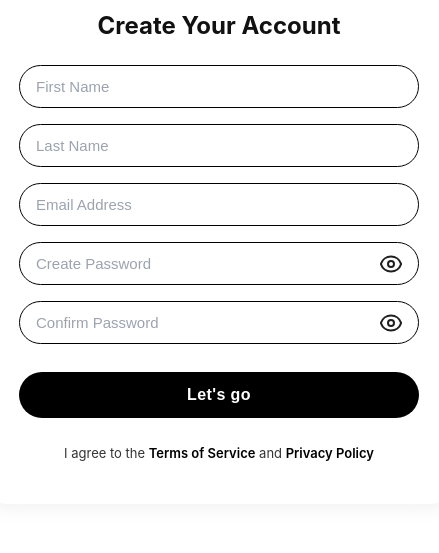
Test case: RegistrationForm › shows warning state when submitting with invalid email format
Type "John" into the field with placeholder "First Name" at (219, 87), box [19,65,419,108]
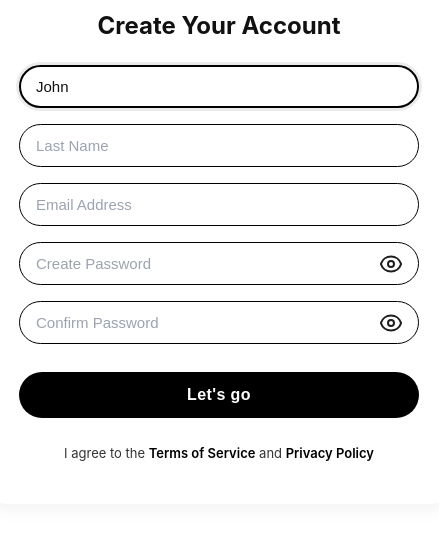
Type "Doe" into the field with placeholder "Last Name" at (219, 146), box [19,124,419,167]
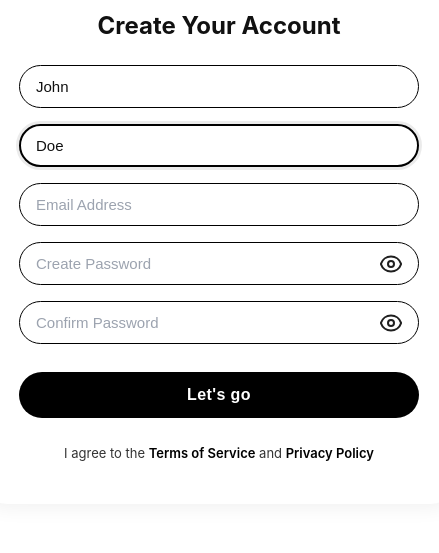
Type "test@yahoo.com" into the field with placeholder "Email Address" at (219, 205), box [19,183,419,226]
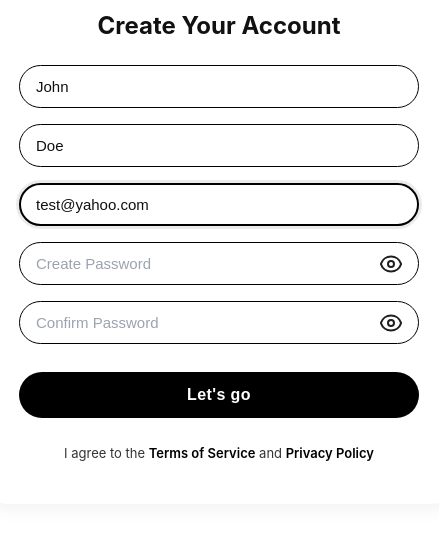
Type "Password123!" into the password field with placeholder "Create Password" at (219, 264), box [19,242,419,285]
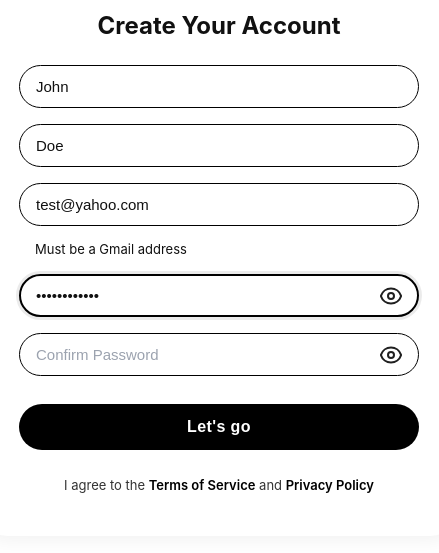
Type "Password123!" into the password field with placeholder "Confirm Password" at (219, 355), box [19,333,419,376]
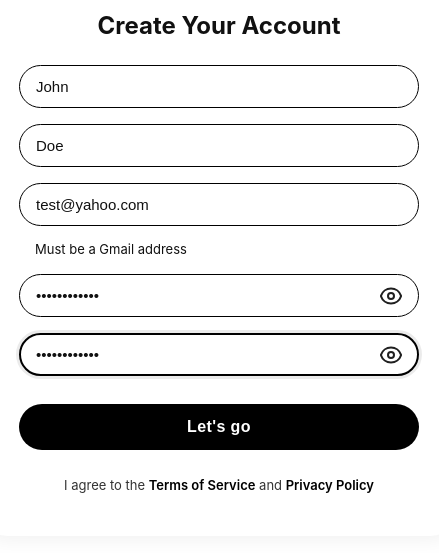
Note: Click submit with invalid email
Click the button "Let's go" at (219, 427), box [19,404,419,450]
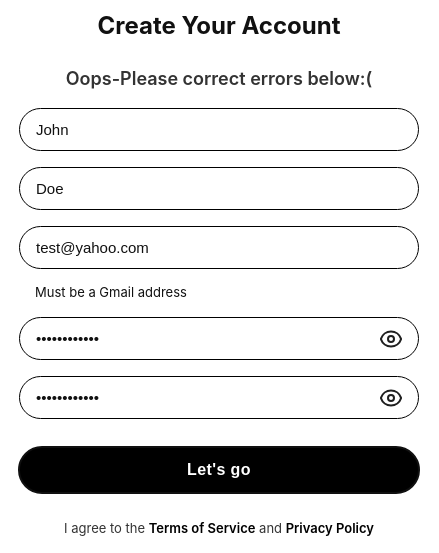
Now the text "Oops-Please correct errors below:(" is shown, box [66,68,372,89]
